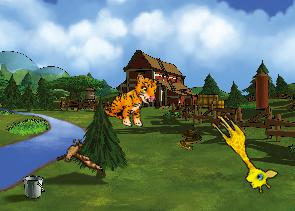eagle: (54, 136, 103, 175)
giraffe: (200, 109, 282, 197)
tiger: (102, 67, 161, 132)
